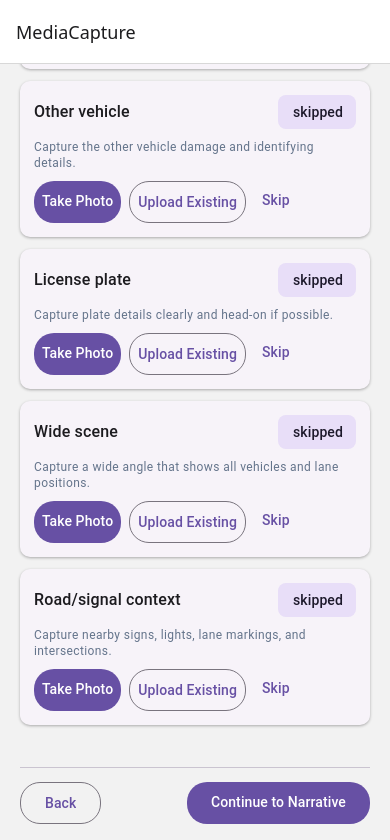
Test: MediaCaptureScreen › Back button is wired and pressable without throwing
(page scrolled)
Click the button "Back". click: (61, 803)
box: [21, 783, 100, 823]
(page scrolled)
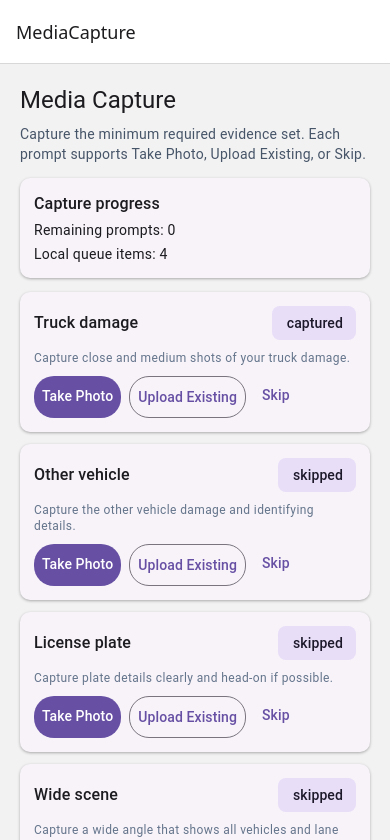
Result: the text "Media Capture" is shown at [20, 86, 176, 114]
